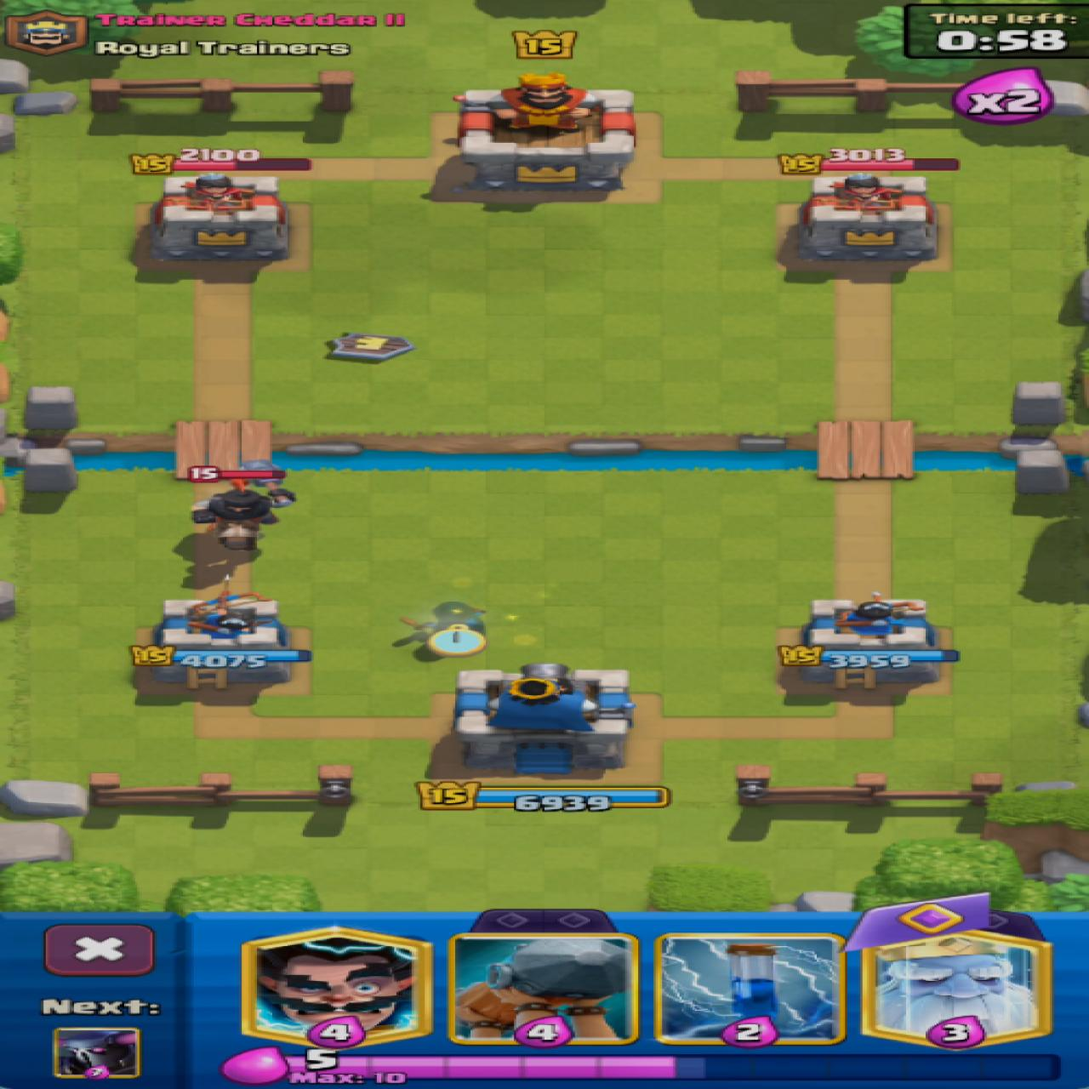Enemy-DarkPrince-Charge: (192, 479, 294, 549)
Enemy-KingTower: (457, 73, 634, 193)
Enemy-PrincessTower: (799, 174, 934, 262), (152, 173, 287, 258)
